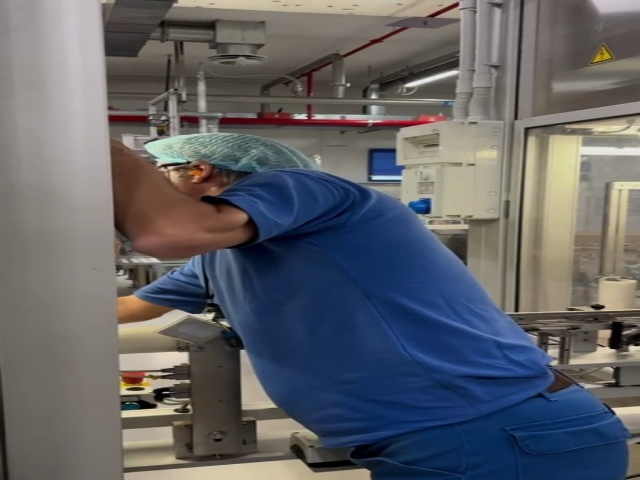Earplug: (179, 160, 213, 186)
Hairnet: (146, 134, 318, 168)
No_Helmet: (145, 135, 313, 168)
No_Vest: (195, 174, 560, 429)
Person: (146, 132, 605, 480)
Safety_Goggles: (155, 158, 200, 179)
